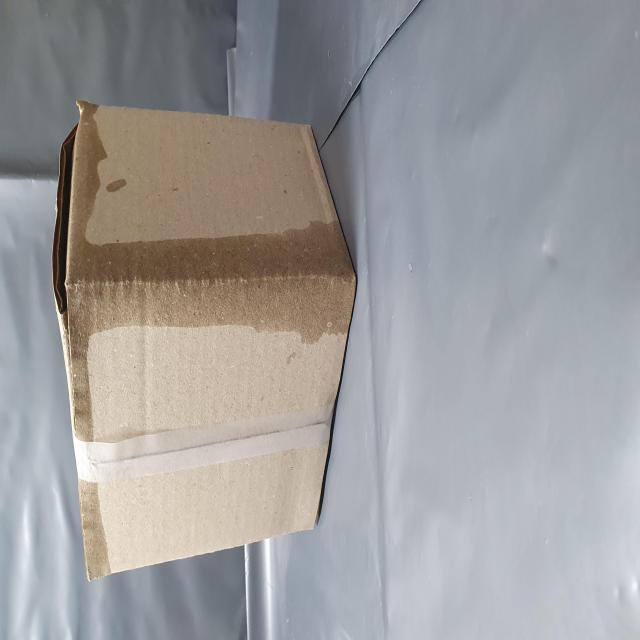wet: (159, 108, 242, 640), (34, 111, 311, 203)
